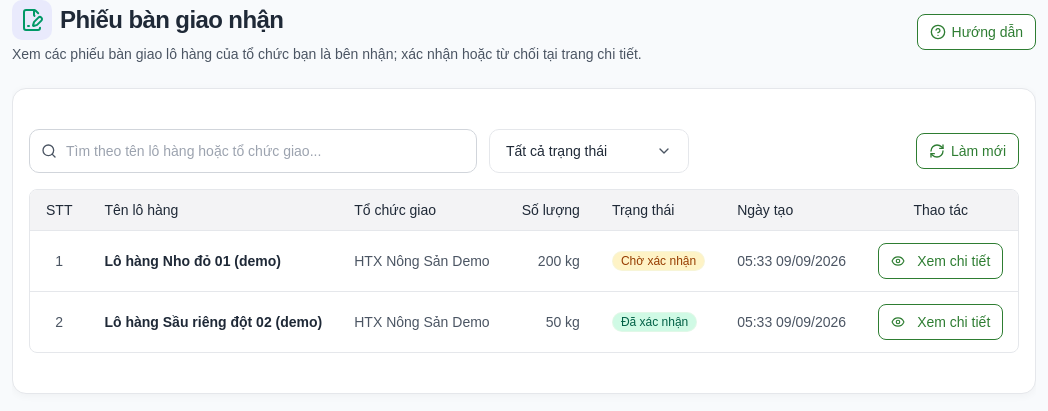
Scenario: NCL-05-CN-008/009 - Danh sách phiếu bàn giao nhận (VT-04) › lọc theo từ khóa tìm kiếm tên lô hàng
Type "Nho" into the field with placeholder "Tìm theo tên lô hàng hoặc tổ chức giao...". click: (253, 151)
box: [29,129,477,173]
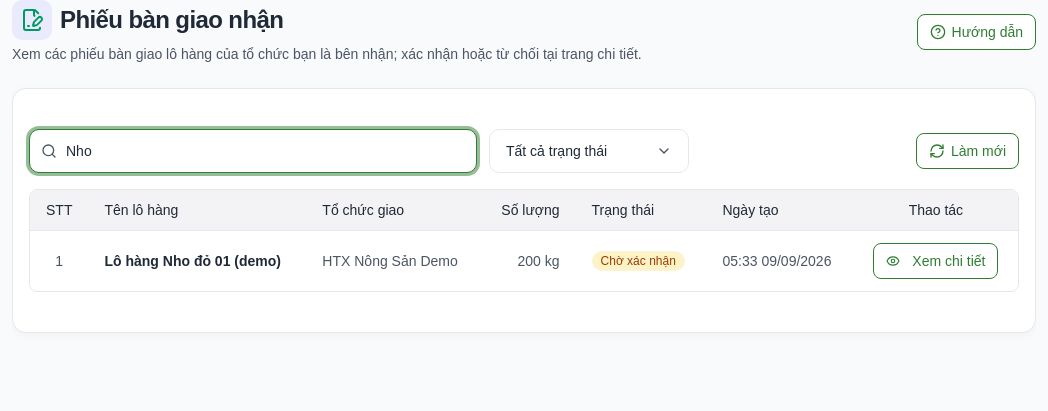
expect the text "Lô hàng Nho đỏ 01 (demo)" is shown: met, box [104,250,290,270]
expect the text "Lô hàng Sầu riêng đột 02 (demo)" is gone: met
